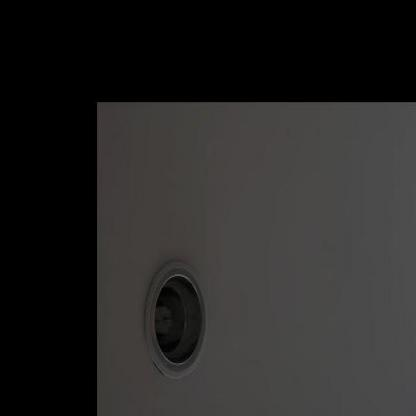light_off: (133, 238, 217, 395)
